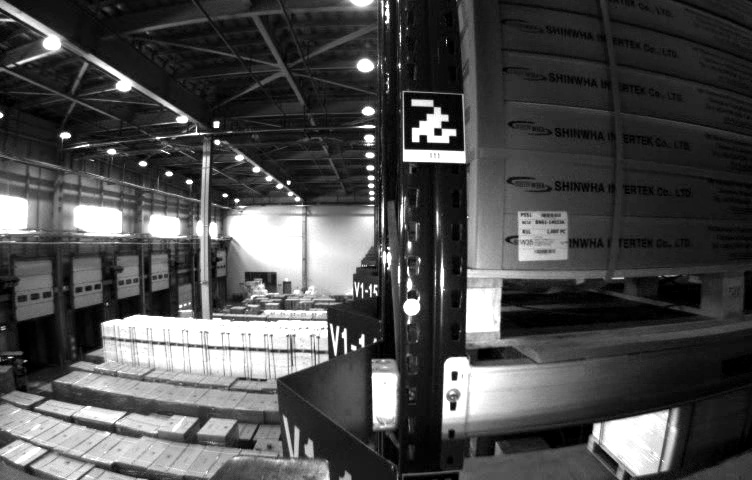True Barcode: (517, 209, 570, 262)
